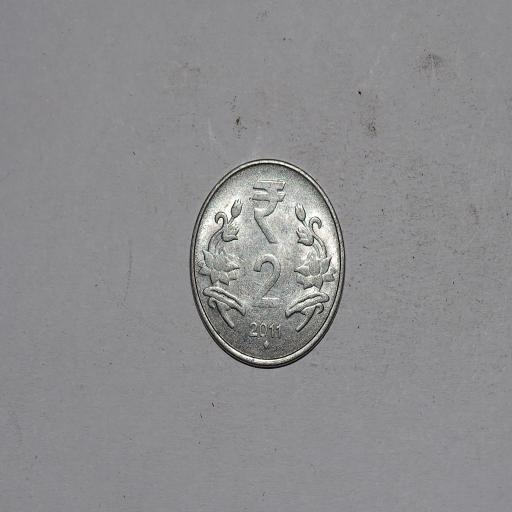rupee2: (182, 158, 344, 373)
